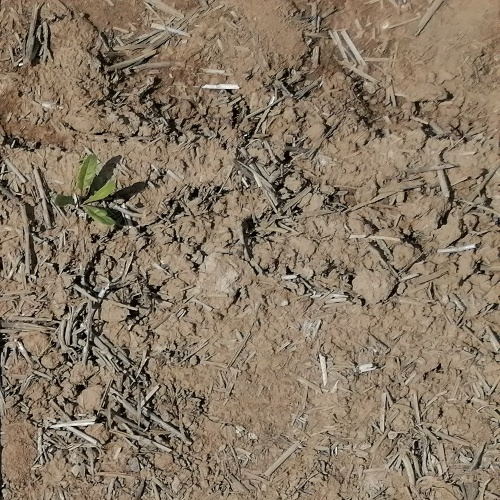beet: (55, 154, 120, 227)
